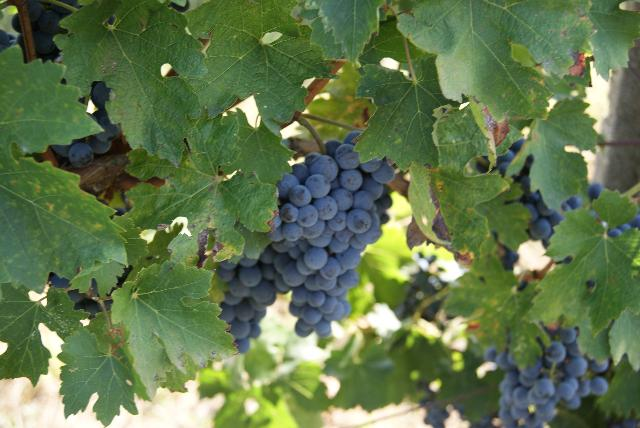grapes: (275, 140, 394, 338)
